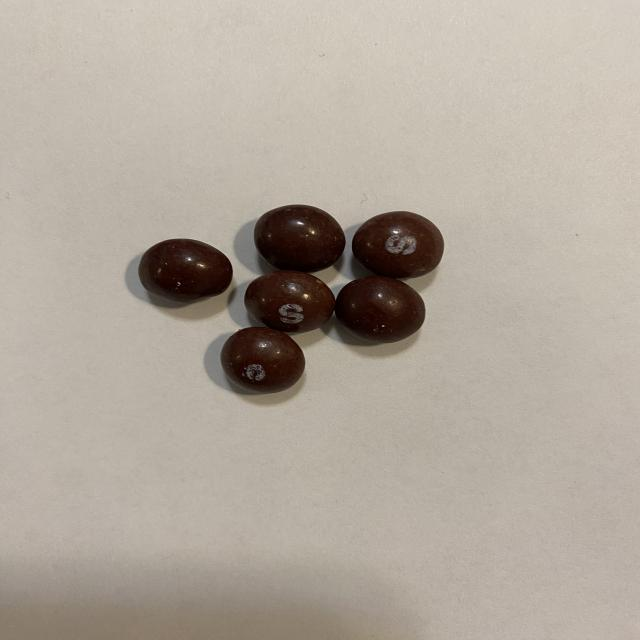smartie: (352, 211, 444, 279), (254, 204, 345, 272), (335, 276, 425, 343), (137, 239, 232, 302), (244, 270, 335, 332), (220, 327, 305, 393)
